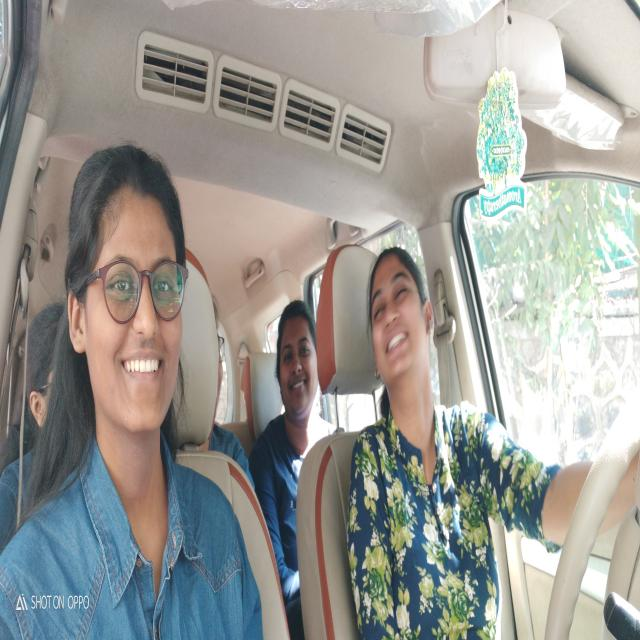drowsy: (369, 243, 432, 398)
person: (61, 143, 197, 442), (272, 296, 321, 428), (25, 308, 62, 442)
